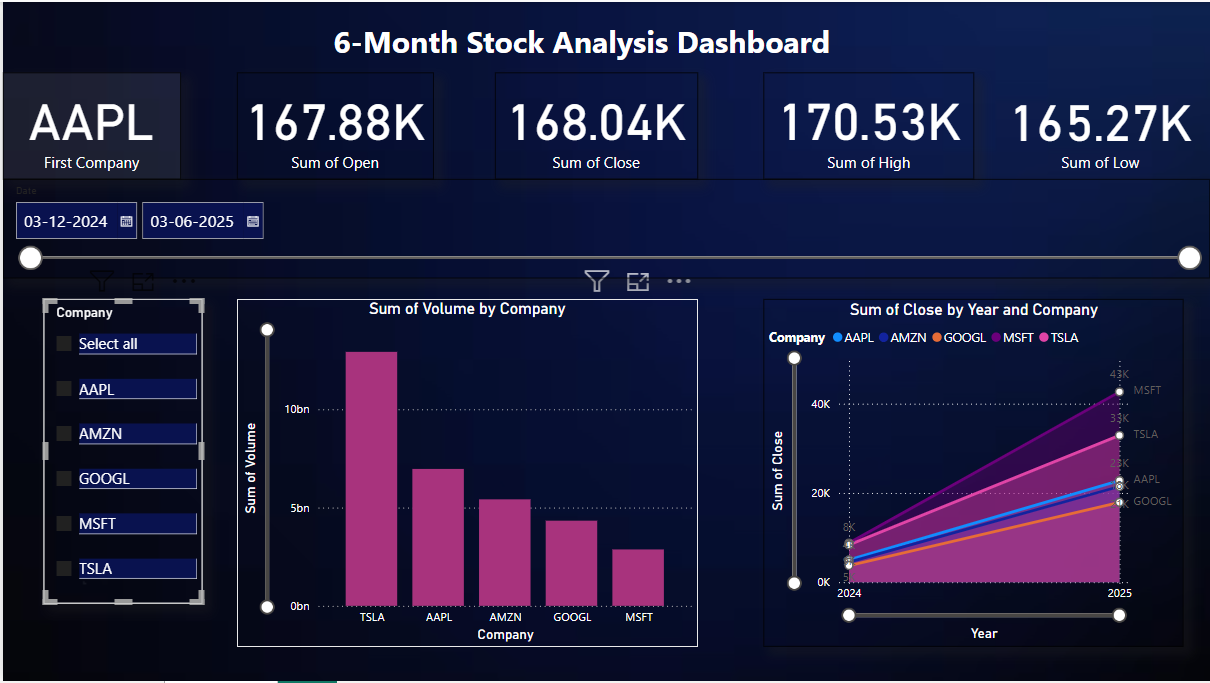

This screenshot's page, from the dashboard's own definition file:
{"tool":"powerbi","page":{"name":"Page 1","canvas":[1280,720],"ordinal":0},"visuals":[{"type":"lineChart","fields":{"Category":["Sheet1.Date.Variation.Date Hierarchy.Year","Sheet1.Date.Variation.Date Hierarchy.Quarter","Sheet1.Date.Variation.Date Hierarchy.Month","Sheet1.Date.Variation.Date Hierarchy.Day"],"Y":["Sum(Sheet1.Close)"],"Series":["Sheet1.Company"]},"box":[806.7,315,445,368.3],"z":0},{"type":"columnChart","fields":{"Category":["Sheet1.Company"],"Y":["Sum(Sheet1.Volume)"]},"box":[248.3,315,488.3,368.3],"z":1000},{"type":"slicer","fields":{"Values":["Sheet1.Company"]},"box":[0,315,168.3,323.3],"z":2000},{"type":"card","fields":{"Values":["Min(Sheet1.Company)"]},"box":[0,75,188.3,113.3],"z":3000},{"type":"textbox","box":[345,15,550,60],"z":4000},{"type":"card","fields":{"Values":["Sum(Sheet1.High)"]},"box":[806.7,75,223.3,113.3],"z":5000},{"type":"card","fields":{"Values":["Sum(Sheet1.Low)"]},"box":[1060,75,208.3,113.3],"z":6000},{"type":"card","fields":{"Values":["Sum(Sheet1.Open)"]},"box":[248.3,75,208.3,113.3],"z":7000},{"type":"card","fields":{"Values":["Sum(Sheet1.Close)"]},"box":[521.7,75,215,113.3],"z":8000},{"type":"slicer","fields":{"Values":["Sheet1.Date"]},"box":[0,188.3,1280,105],"z":8001}]}

Visuals, with their boxes in screenshot pixels (x1, y1, x2, y2), scaled from the page's 1280x720 canvas onto the 1210x683 screenshot:
lineChart - Sheet1.Date.Variation.Date Hierarchy.Year x Sheet1.Date.Variation.Date Hierarchy.Quarter: rect(763, 299, 1183, 648)
columnChart - Sheet1.Company x Sum(Sheet1.Volume): rect(235, 299, 696, 648)
slicer - Sheet1.Company: rect(0, 299, 159, 605)
card - Min(Sheet1.Company): rect(0, 71, 178, 179)
textbox: rect(326, 14, 846, 71)
card - Sum(Sheet1.High): rect(763, 71, 974, 179)
card - Sum(Sheet1.Low): rect(1002, 71, 1199, 179)
card - Sum(Sheet1.Open): rect(235, 71, 432, 179)
card - Sum(Sheet1.Close): rect(493, 71, 696, 179)
slicer - Sheet1.Date: rect(0, 179, 1209, 278)
